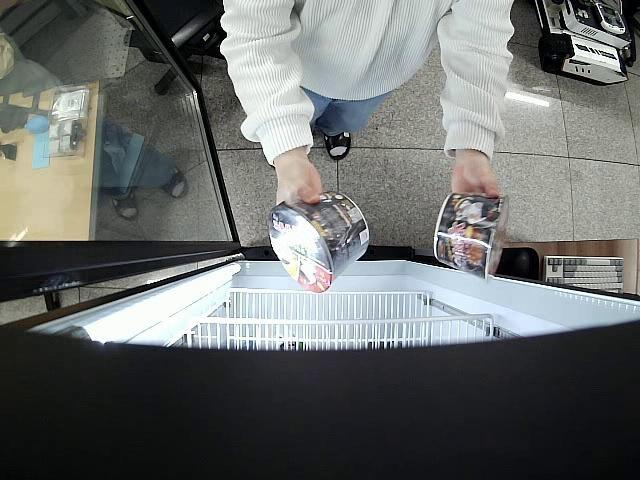07_buldak_L: (266, 190, 370, 294), (433, 192, 511, 281)
